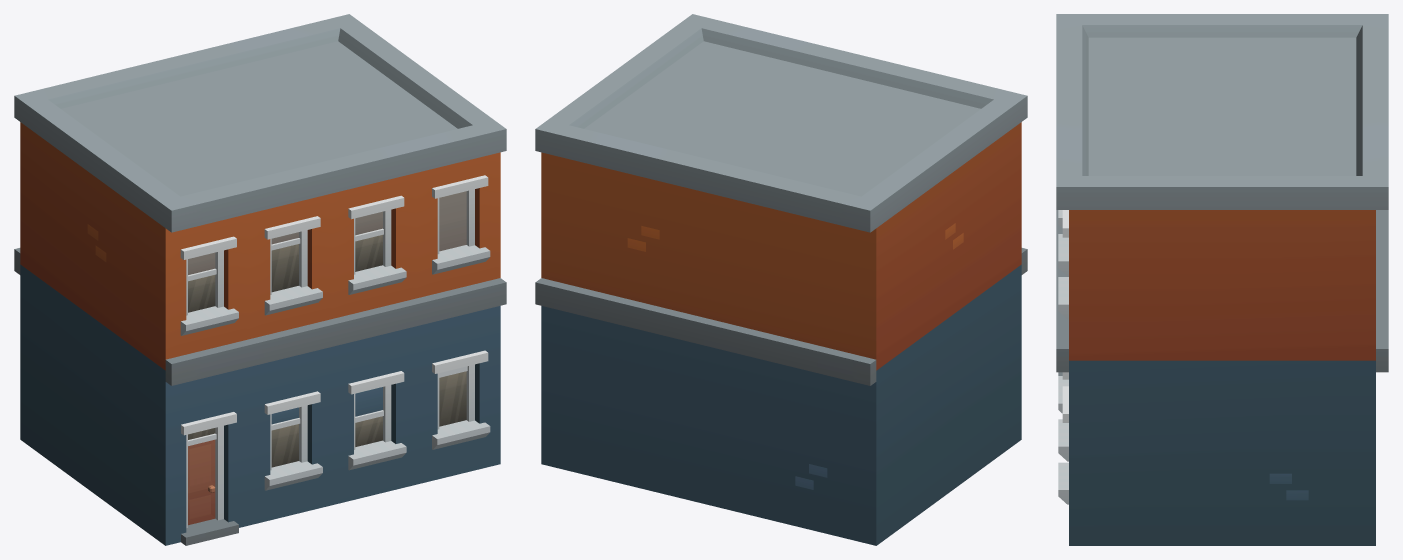
File: shop_b.glb
3 views of the same model, side by side, from view 1: azimuth 30°, elevation 25°; view 2: azimuth 150°, elevation 25°; view 3: azimuth 270°, elevation 25° (orthographic). The views are drawn at different scales.
Visible parts, largest first — view 1: building_B_withoutBase; view 2: building_B_withoutBase; view 3: building_B_withoutBase.
Boxes of the visible parts, x1,y1,x2,y2 form: building_B_withoutBase: [14, 14, 506, 545]; building_B_withoutBase: [535, 14, 1027, 545]; building_B_withoutBase: [1056, 14, 1388, 545].
Bounding box in the file's own units: 1.61 × 1.55 × 1.3.
1 material, 1 textured.
